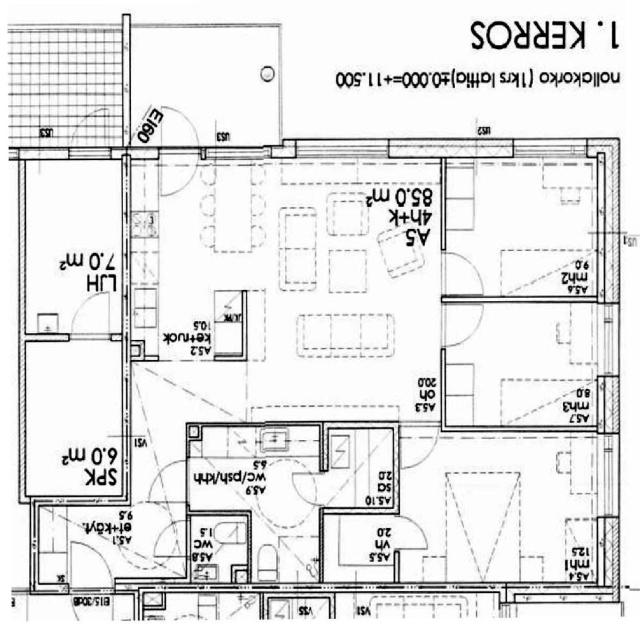door: (148, 98, 205, 193), (64, 536, 116, 592), (434, 244, 491, 295), (438, 296, 488, 350), (156, 144, 200, 200), (395, 421, 440, 473), (67, 291, 111, 344), (388, 511, 434, 554), (150, 455, 189, 503), (288, 466, 323, 506), (152, 520, 188, 558)
window: (596, 433, 624, 522), (594, 301, 624, 383), (504, 584, 612, 606), (203, 140, 276, 167), (24, 146, 117, 164)
zone: (268, 161, 447, 415), (407, 433, 620, 585), (128, 160, 250, 361), (442, 158, 610, 300), (441, 300, 615, 433), (21, 154, 128, 338), (126, 24, 280, 148), (21, 337, 129, 498), (0, 17, 127, 153), (188, 422, 322, 511), (323, 423, 398, 512), (320, 510, 400, 584), (186, 512, 252, 584)
